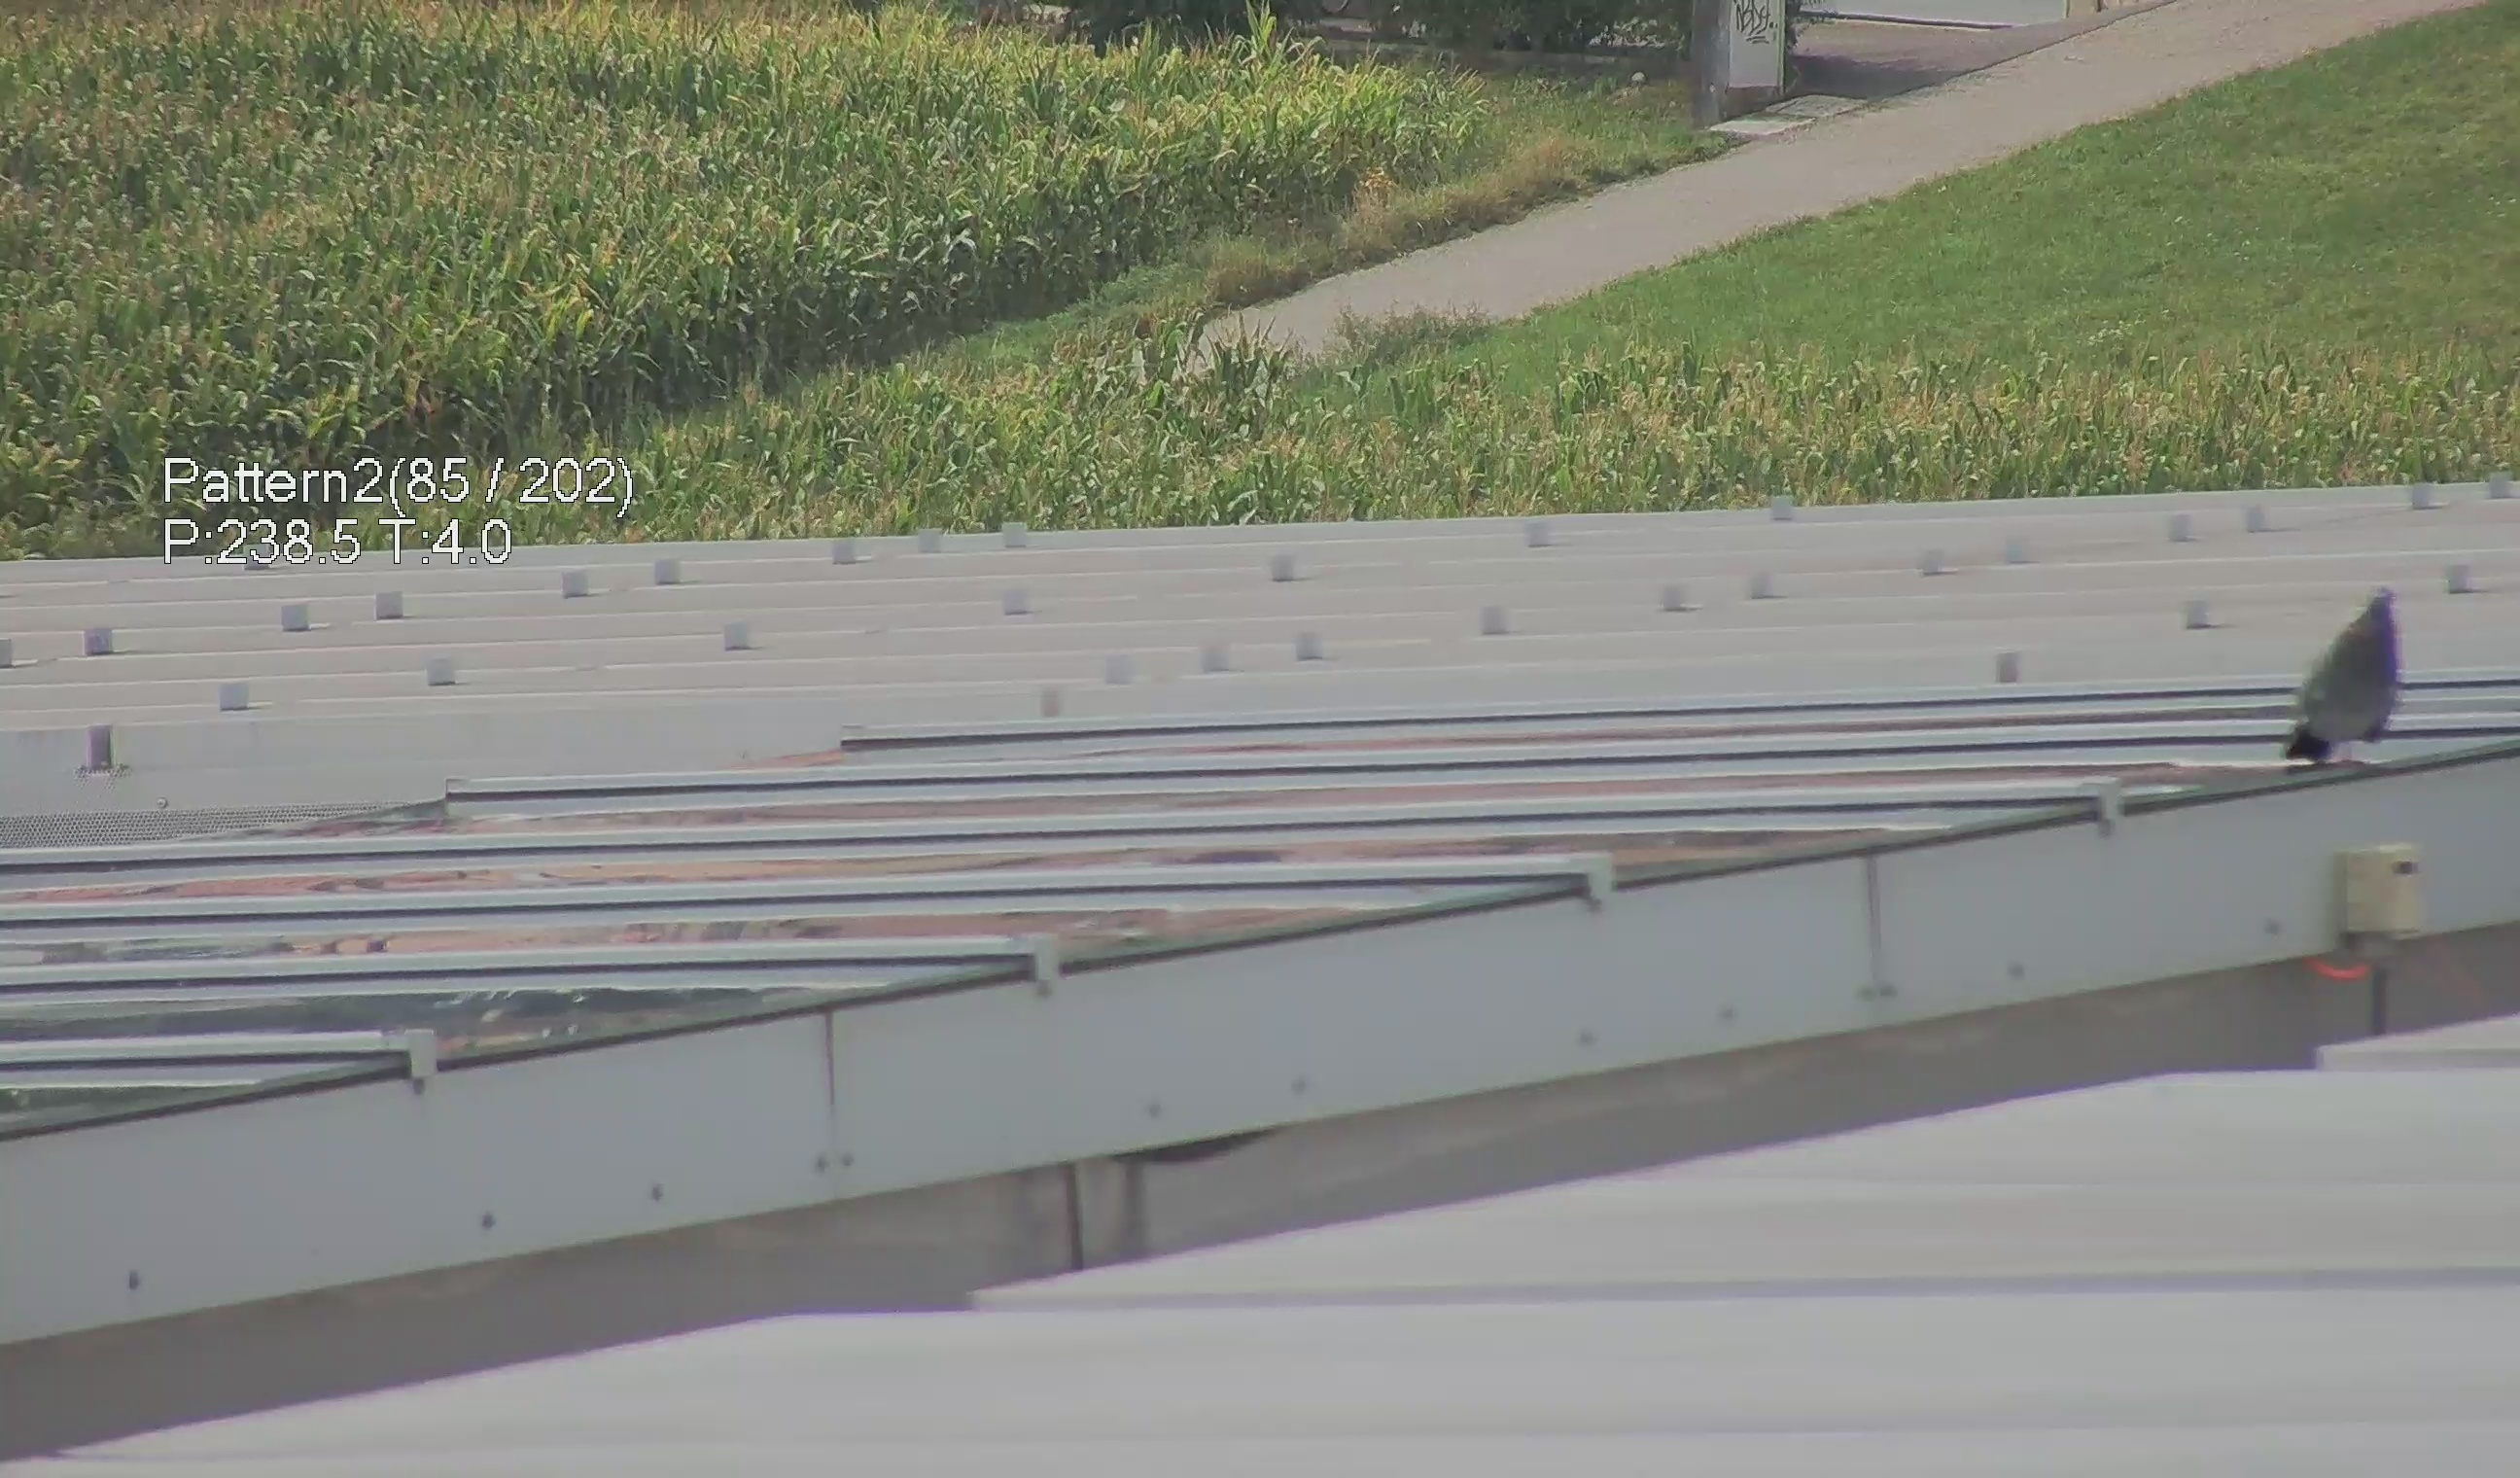Pigeon: (2290, 577, 2425, 769)
